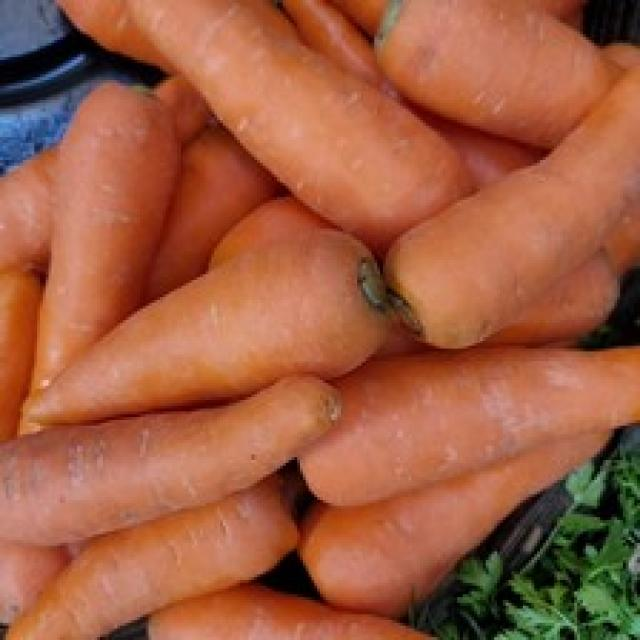Fresh_Carrot: (162, 0, 500, 204), (285, 349, 640, 503), (49, 234, 373, 378), (48, 72, 174, 388), (4, 387, 349, 496)
